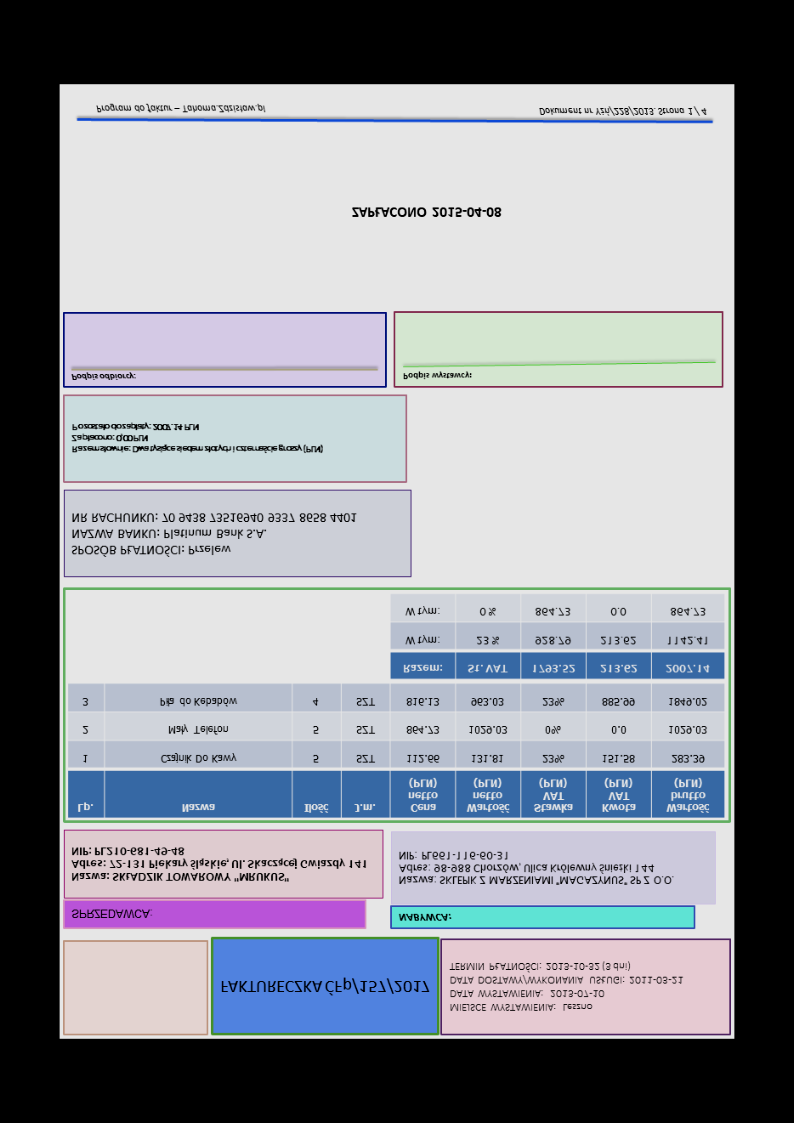Table: (65, 685, 723, 820), (388, 593, 727, 682)
TextBox: (66, 508, 360, 561), (444, 956, 687, 1016), (68, 842, 368, 888), (394, 847, 677, 891), (69, 420, 328, 458), (213, 974, 432, 1002), (90, 98, 268, 121), (344, 202, 505, 224), (536, 103, 712, 119), (68, 367, 139, 387), (66, 907, 154, 923), (395, 368, 474, 384), (395, 909, 451, 926)
